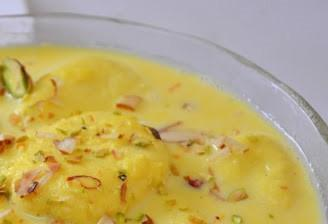RasMalai: (0, 40, 321, 224)
